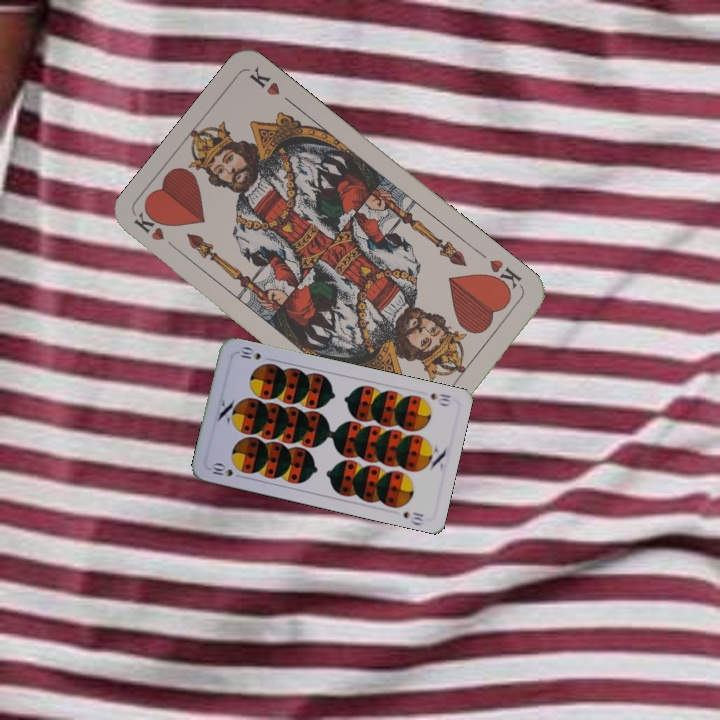HK: (130, 208, 183, 255), (482, 255, 524, 296)
S10: (208, 459, 246, 480), (426, 389, 453, 409)
